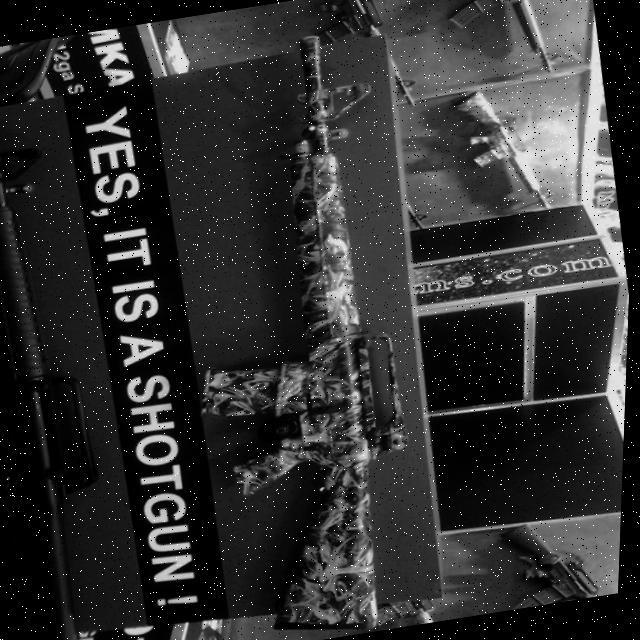firearm: (145, 28, 450, 640), (0, 60, 143, 640), (448, 84, 560, 221), (309, 0, 424, 119), (497, 513, 619, 611), (438, 0, 562, 87)
